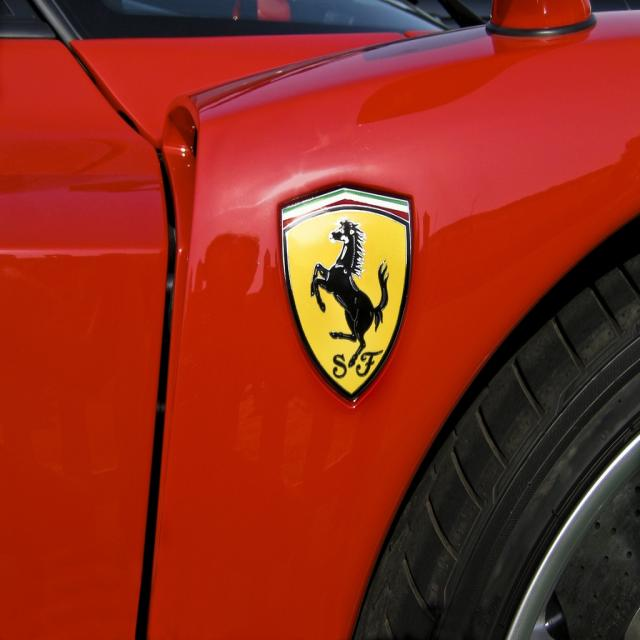ferrari: (283, 186, 410, 395)
